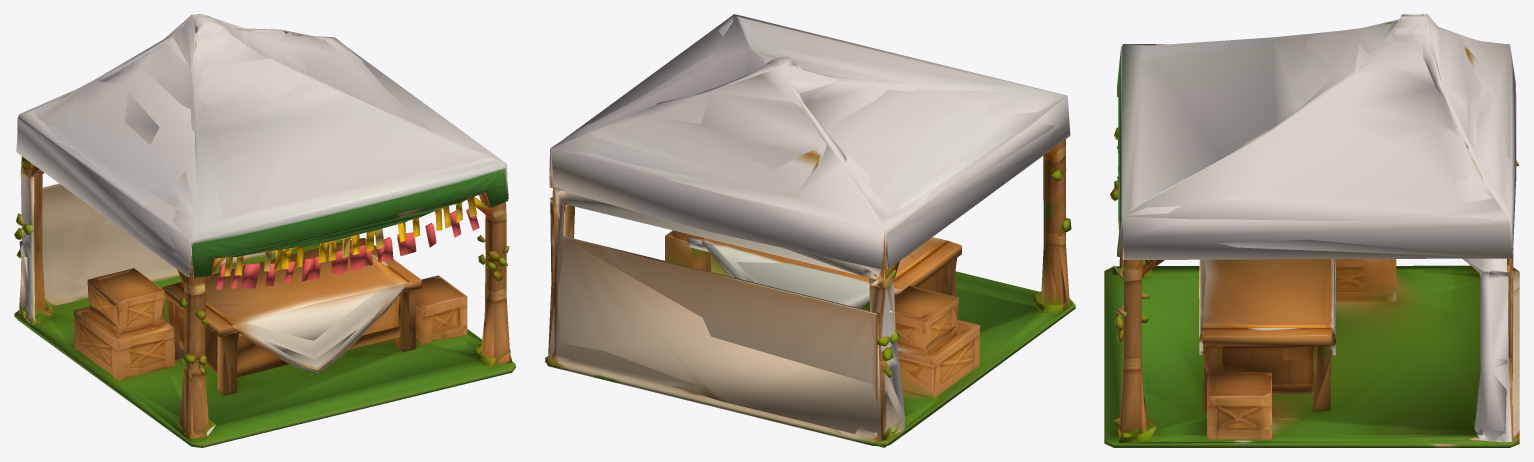
File: PuestoFeriaDef.fbx
The picture shows the model from 3 angles, left to right: view 1: azimuth 30°, elevation 25°; view 2: azimuth 150°, elevation 25°; view 3: azimuth 270°, elevation 25°; orthographic projection. The views are drawn at different scales.
Visible parts, largest first — view 1: PuestoFeriaAlta, PuestoFeriaBaja, PuestoFeriaMedia; view 2: PuestoFeriaBaja, PuestoFeriaAlta, PuestoFeriaMedia; view 3: PuestoFeriaAlta, PuestoFeriaBaja, PuestoFeriaMedia.
Part boxes in pixels (left/top/right/bottom): PuestoFeriaAlta: left=14, top=14, right=515, bottom=447; PuestoFeriaBaja: left=15, top=14, right=512, bottom=445; PuestoFeriaMedia: left=15, top=17, right=514, bottom=438; PuestoFeriaBaja: left=544, top=14, right=1072, bottom=447; PuestoFeriaAlta: left=545, top=15, right=1075, bottom=446; PuestoFeriaMedia: left=545, top=17, right=1069, bottom=445; PuestoFeriaAlta: left=1104, top=14, right=1519, bottom=447; PuestoFeriaBaja: left=1111, top=14, right=1516, bottom=444; PuestoFeriaMedia: left=1104, top=14, right=1519, bottom=446.
Bounding box in the file's own units: 190 × 165 × 186.
